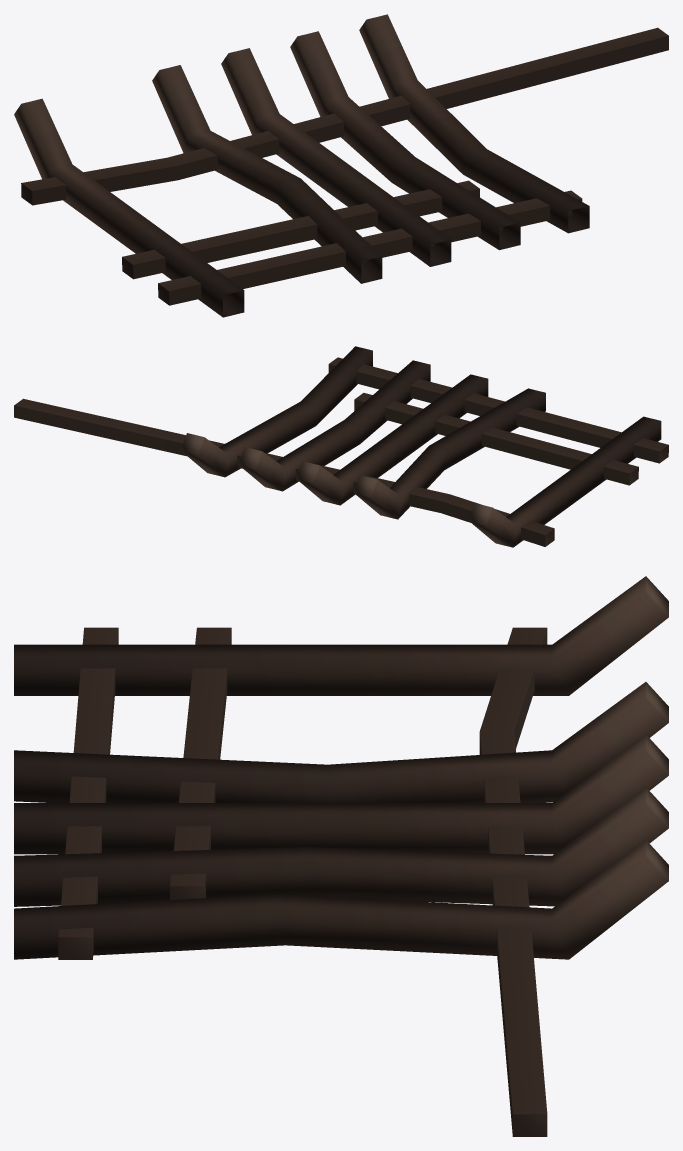
Rendered from Fence 04.FBX.
The picture shows the model from 3 angles, top to bottom: view 1: azimuth 30°, elevation 25°; view 2: azimuth 150°, elevation 25°; view 3: azimuth 270°, elevation 25°; orthographic projection. The views are drawn at different scales.
Parts seen in each view (by area): view 1: Fence 04; view 2: Fence 04; view 3: Fence 04.
Part boxes in pixels (left/top/right/bottom): Fence 04: left=14, top=14, right=668, bottom=317; Fence 04: left=14, top=346, right=668, bottom=547; Fence 04: left=14, top=576, right=668, bottom=1136.
Bounding box in the file's own units: 461 × 45.8 × 262.
Materials: 1 (1 with a texture image).
